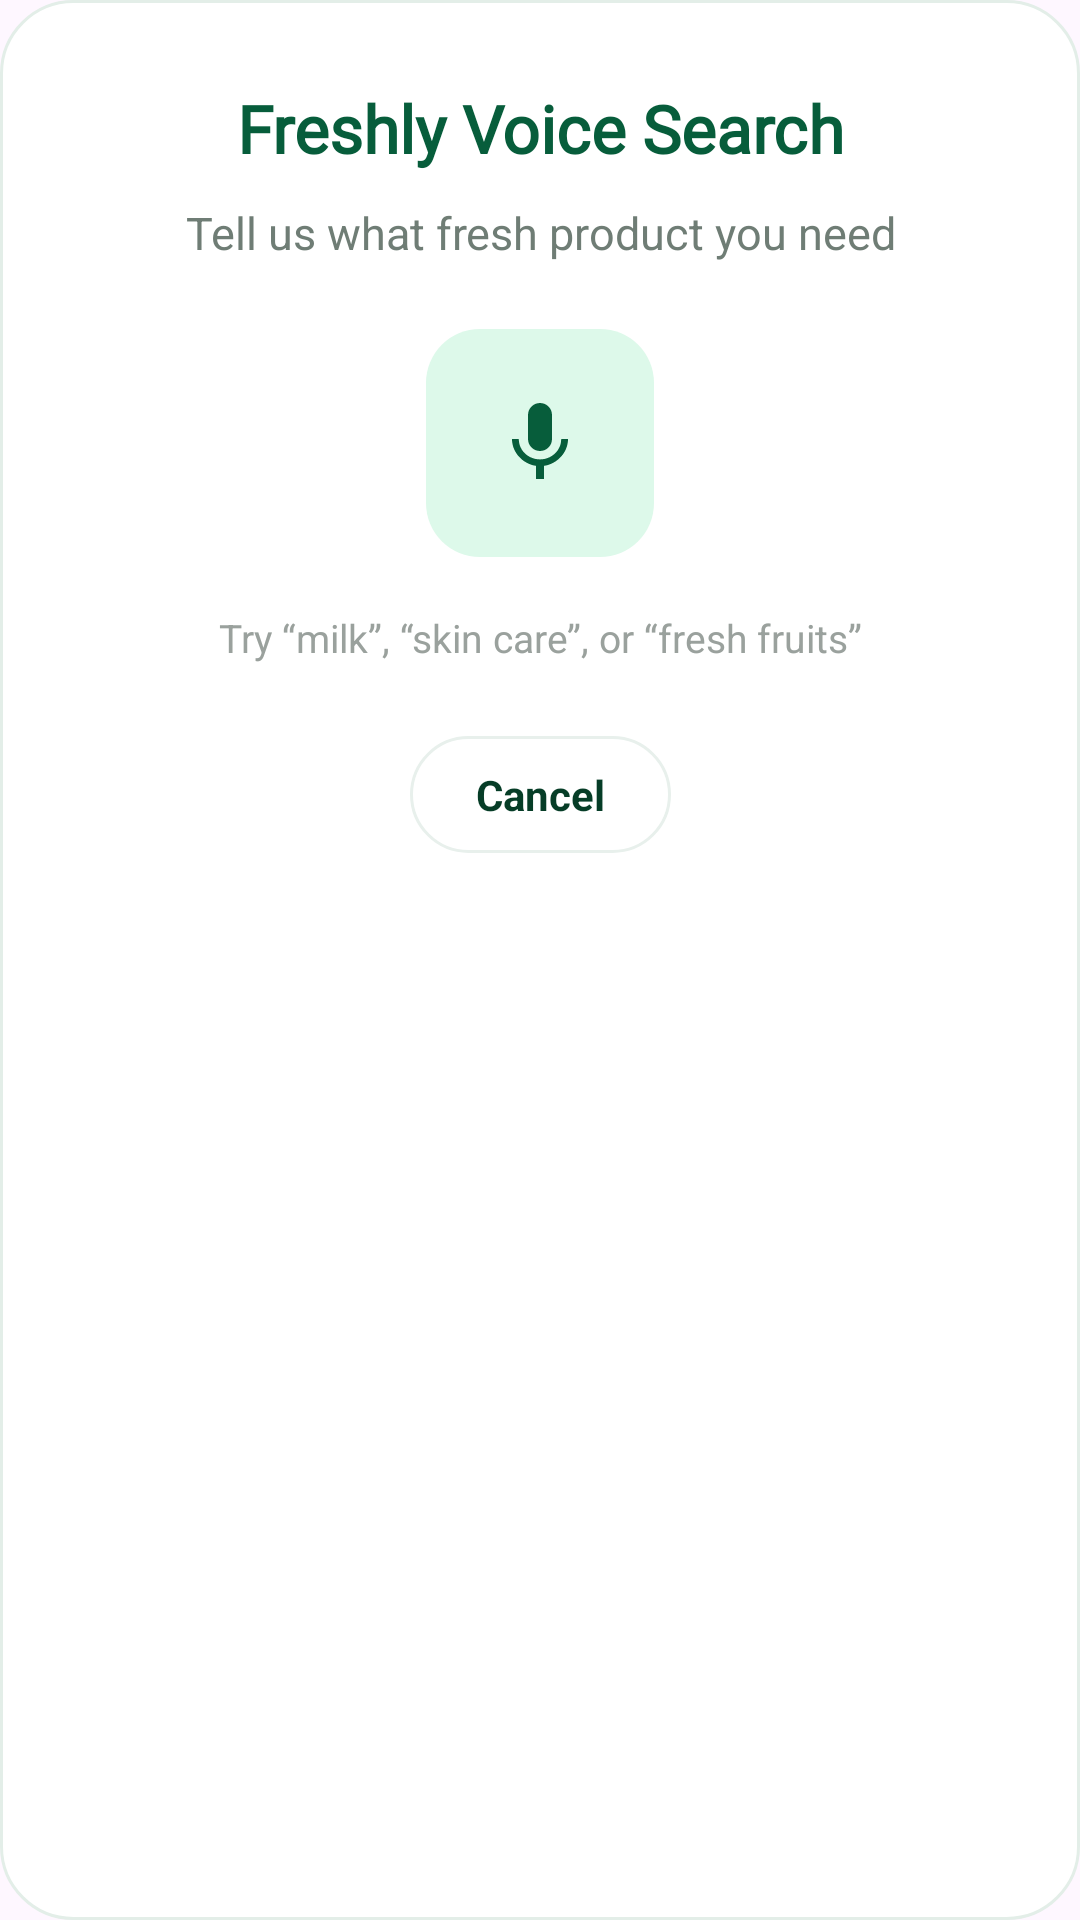

Icons on this 1080×1920 Android screen, each with its box as bbox=[x1, y1, x2, y2]:
mic: bbox=[426, 329, 654, 557]
